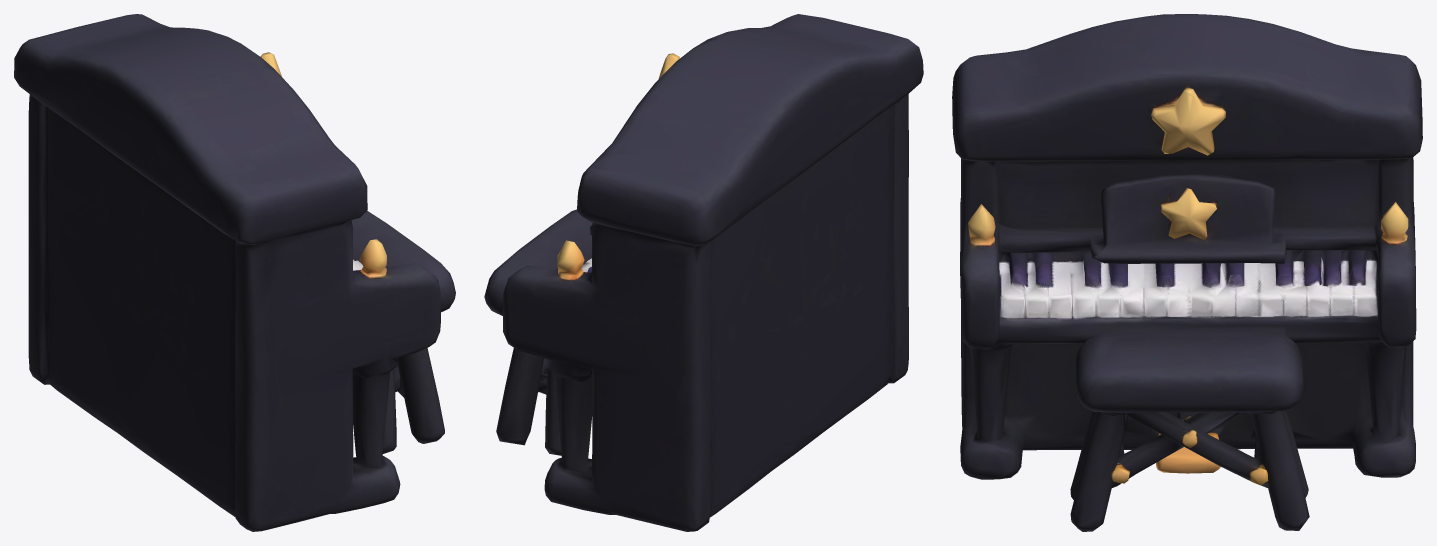
Rendered from piano.glb.
The picture shows the model from 3 angles, left to right: view 1: azimuth 30°, elevation 25°; view 2: azimuth 150°, elevation 25°; view 3: azimuth 270°, elevation 25°; orthographic projection.
Visible parts, largest first — view 1: tripo_node_ba962bd5-b1a9-4f91-81d3-6b1078896a58; view 2: tripo_node_ba962bd5-b1a9-4f91-81d3-6b1078896a58; view 3: tripo_node_ba962bd5-b1a9-4f91-81d3-6b1078896a58.
Part boxes in pixels (box(x1,y1,x2,y2)): tripo_node_ba962bd5-b1a9-4f91-81d3-6b1078896a58: box(14, 14, 455, 531); tripo_node_ba962bd5-b1a9-4f91-81d3-6b1078896a58: box(484, 14, 923, 531); tripo_node_ba962bd5-b1a9-4f91-81d3-6b1078896a58: box(952, 14, 1422, 531).
Bounding box in the file's own units: 0.509 × 0.65 × 0.7036.
1 material, 1 textured.
